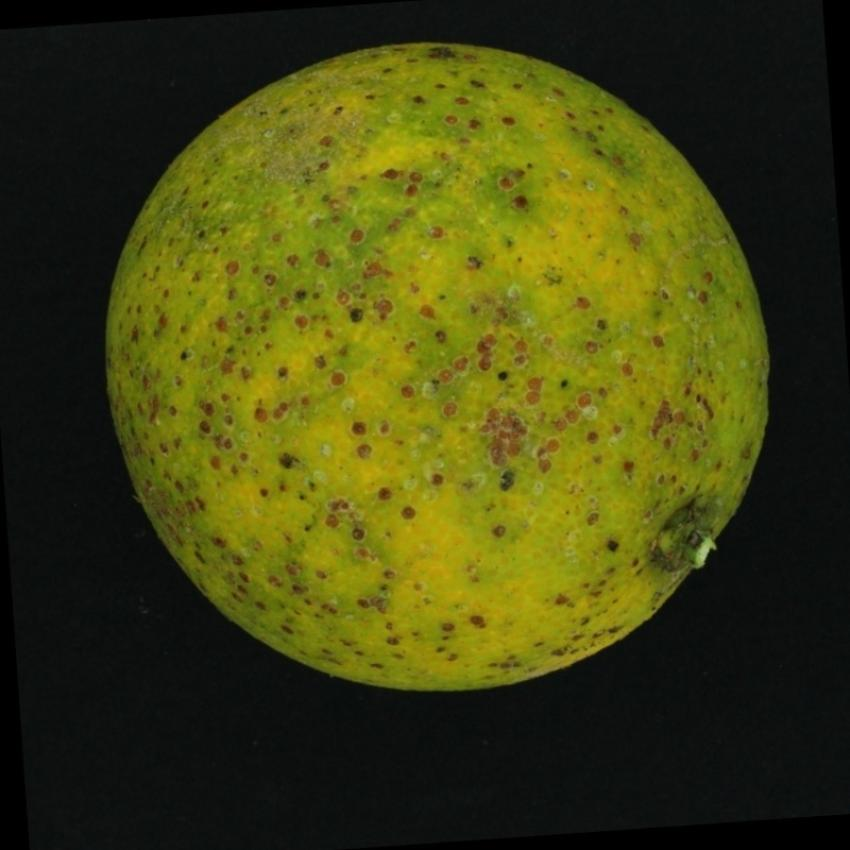Mal estado: (69, 20, 783, 722)
